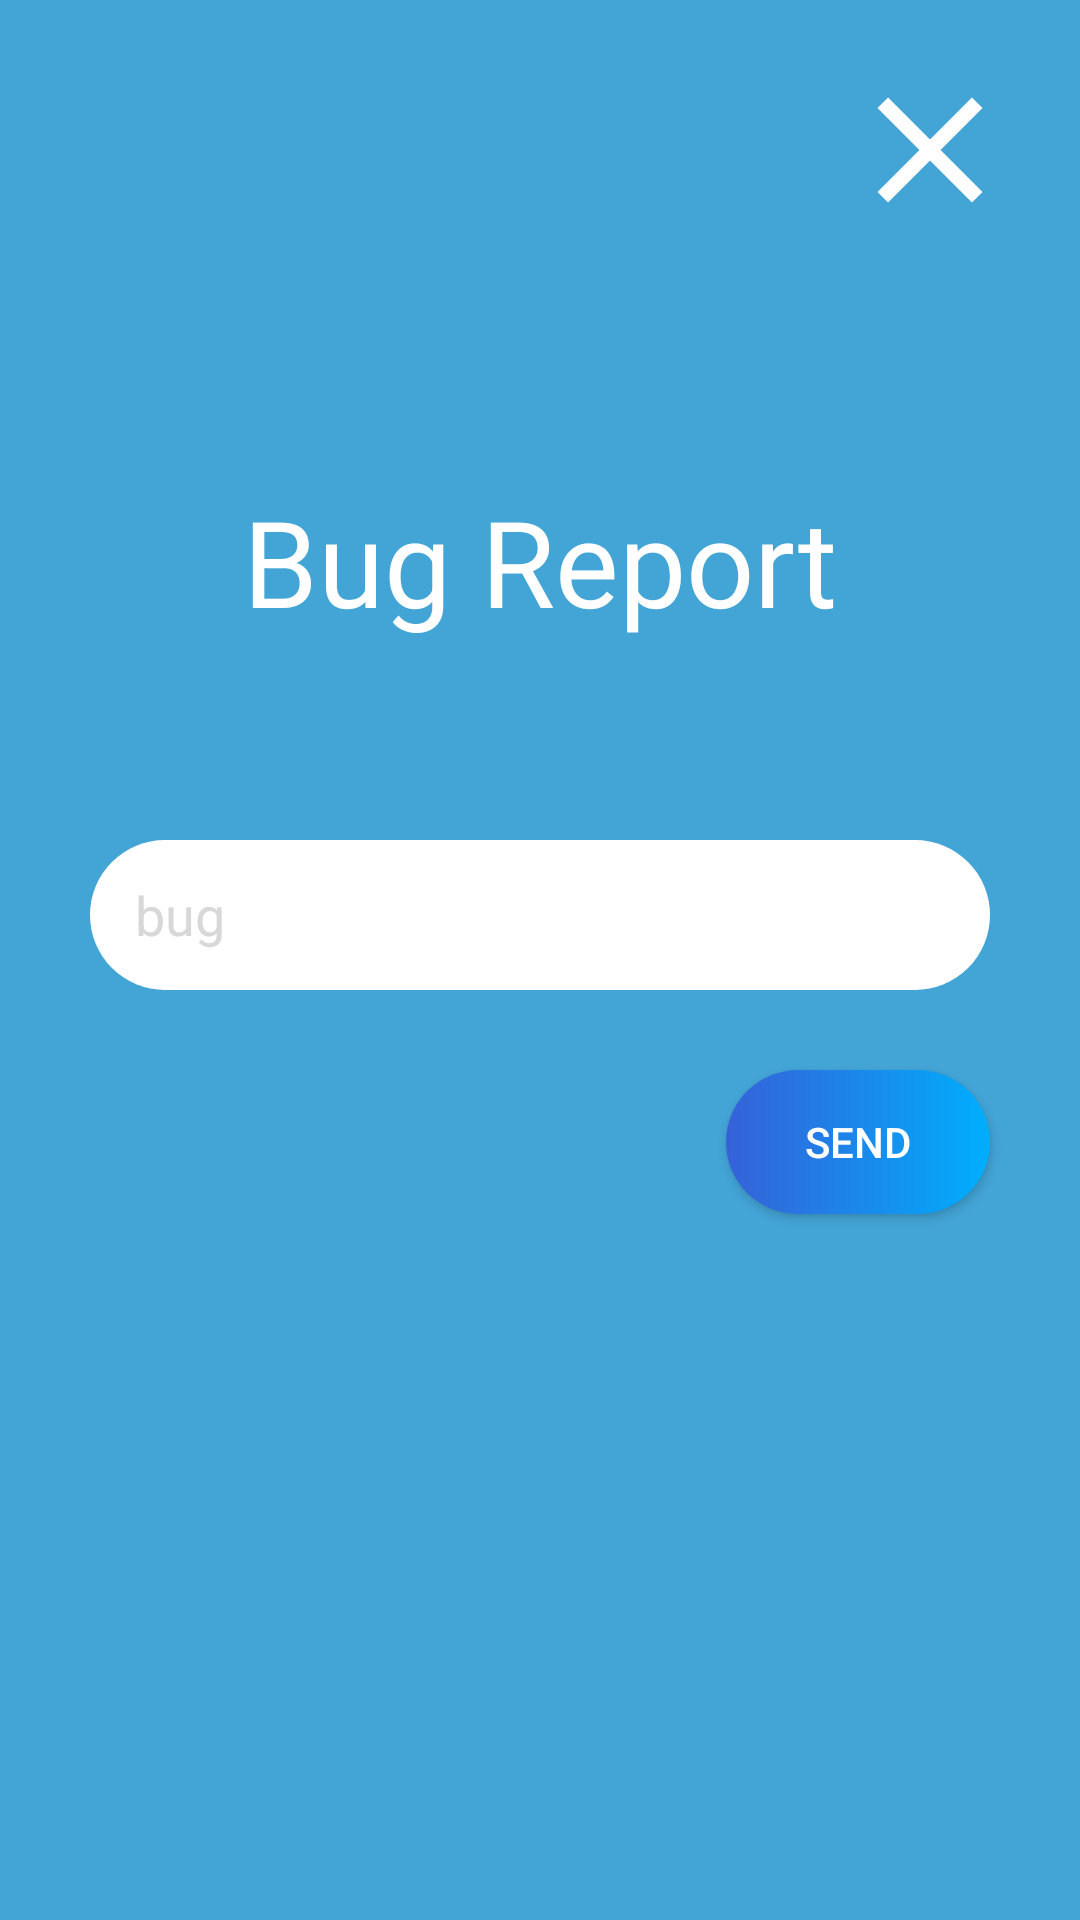

Named icons in this screenshot (1080x1920) and their bounding boxes, (x1, y1, x2, y2):
close: (878, 97, 982, 203)
